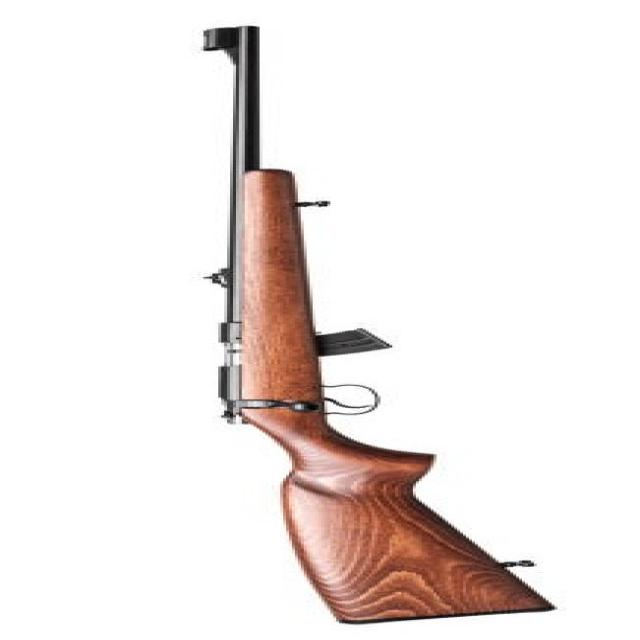rifle: (82, 14, 594, 625)
